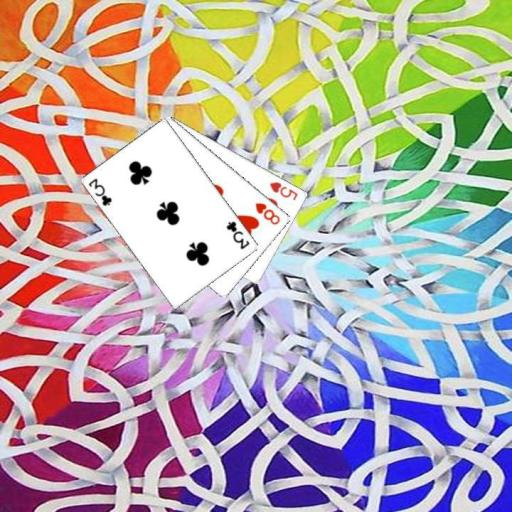3C: (223, 218, 252, 251), (85, 175, 114, 208)
5H: (267, 178, 299, 202)
8H: (253, 199, 282, 226)
